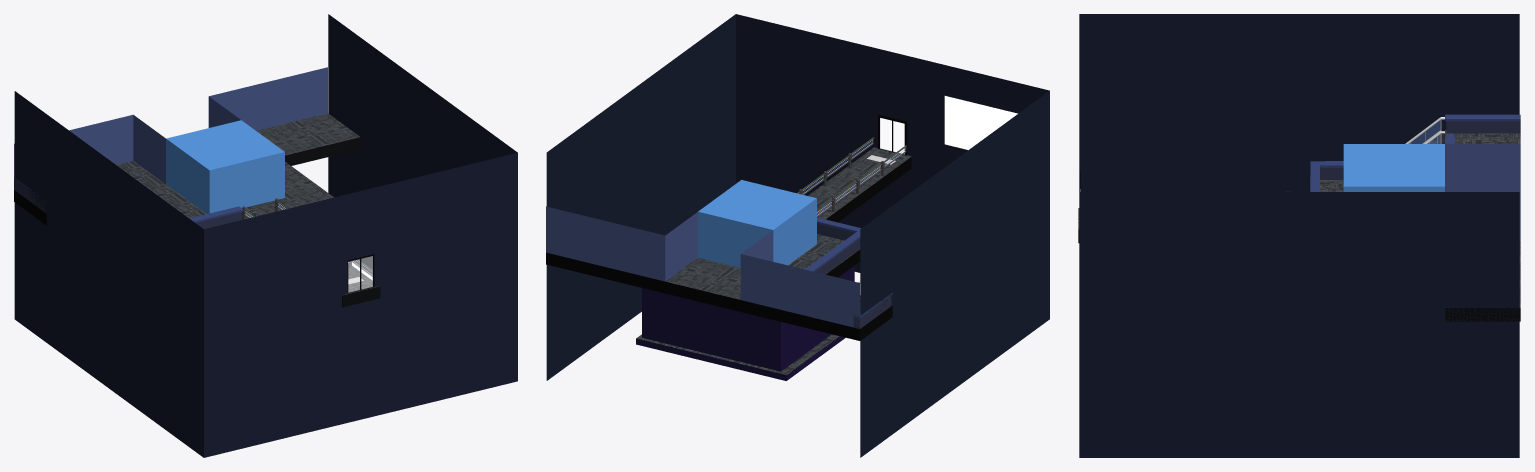
The model's file is mall_layout1.glb.
3 renders of one model, left to right at view 1: azimuth 30°, elevation 25°; view 2: azimuth 150°, elevation 25°; view 3: azimuth 270°, elevation 25°, orthographic. The views are drawn at different scales.
Parts seen in each view (by area): view 1: mall_building_walls, STOREPLACEHOLDER, mall_floor_firstFloor-walls, mall_floor_firstFloor, mall_guardWalls; view 2: mall_building_walls, mall_floor_firstFloor-walls, mall_floor_firstFloor, mall_floor_gamepadFloor, STOREPLACEHOLDER, mall_bigScreen, mall_guardWalls, mall_rail_lights-entry; view 3: mall_building_walls, STOREPLACEHOLDER, mall_floor_firstFloor-walls, mall_guardWalls, mall_floor_firstFloor, stairs.
Boxes of the visible parts, x1,y1,x2,y2 form: mall_building_walls: (14,14,517,457); STOREPLACEHOLDER: (166,120,284,213); mall_floor_firstFloor-walls: (14,67,327,184); mall_floor_firstFloor: (14,113,380,307); mall_guardWalls: (14,176,243,228); mall_building_walls: (546,14,1049,457); mall_floor_firstFloor-walls: (546,206,859,328); mall_floor_firstFloor: (546,147,911,340); mall_floor_gamepadFloor: (636,265,854,380); STOREPLACEHOLDER: (698,180,816,267); mall_bigScreen: (944,96,1017,149); mall_guardWalls: (805,217,892,328); mall_rail_lights-entry: (797,137,906,216); mall_building_walls: (1079,14,1519,457); STOREPLACEHOLDER: (1343,144,1444,191); mall_floor_firstFloor-walls: (1445,144,1520,240); mall_guardWalls: (1310,114,1520,191); mall_floor_firstFloor: (1078,129,1520,321); stairs: (1405,117,1444,143).
Size of the model in its own units: 25 by 17.4 by 26.25.
36 materials, 3 textured.
